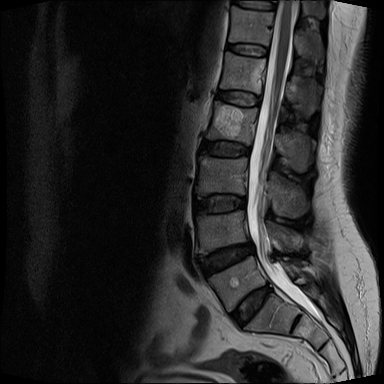Lumbar Disc Bulge (LDB): (189, 233, 258, 282), (224, 279, 276, 334), (189, 185, 250, 218)
Normal IVD: (195, 135, 253, 163), (210, 86, 262, 111), (222, 38, 270, 60), (230, 2, 278, 13)
Spinal Stenosis (SS): (245, 235, 260, 260), (239, 191, 251, 213)
